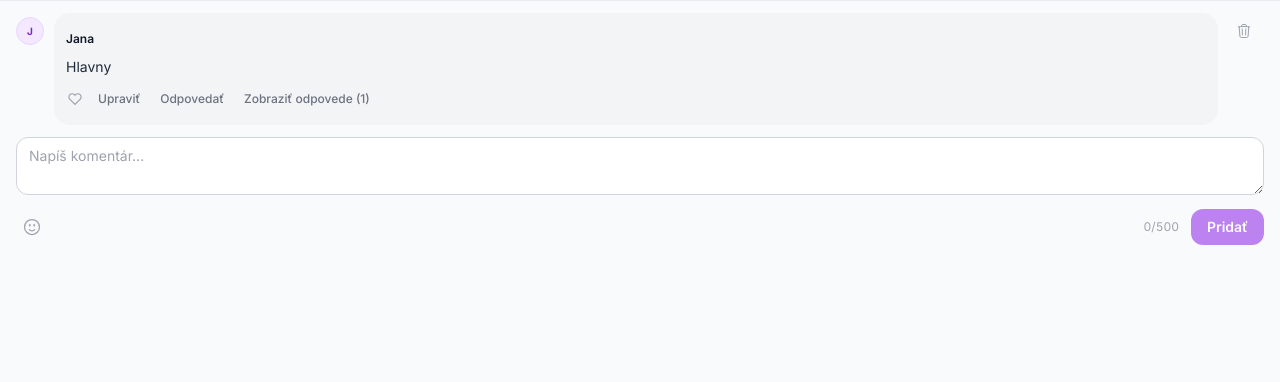
Test: ponuka úpravy › offers Edit on my own reply too
The image size is (1280, 382).
Expected: the text "Hlavny" is shown, [66,58,111,75]
Click the button with test id "feed-comment-toggle-replies-1".
click(307, 99)  # box [238,81,376,117]
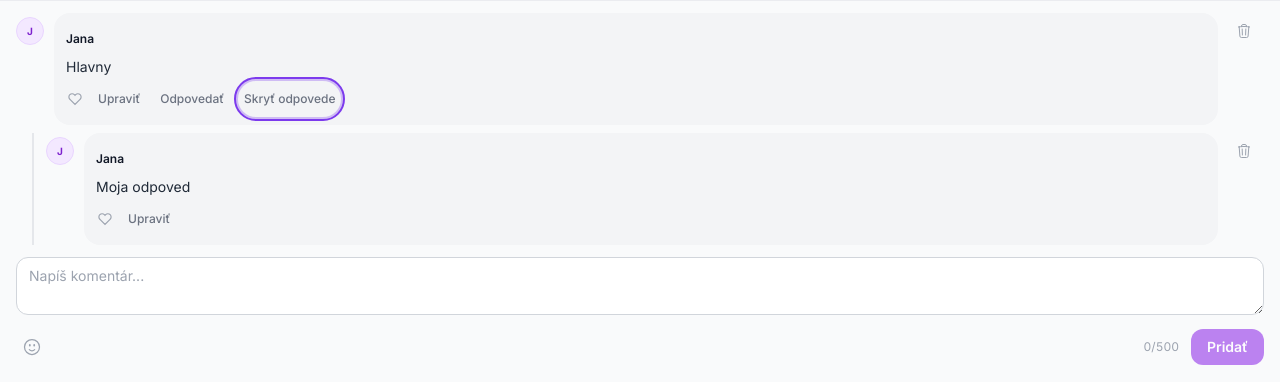
Result: the button with test id "feed-comment-edit-2" is shown at [122,201,176,237]
